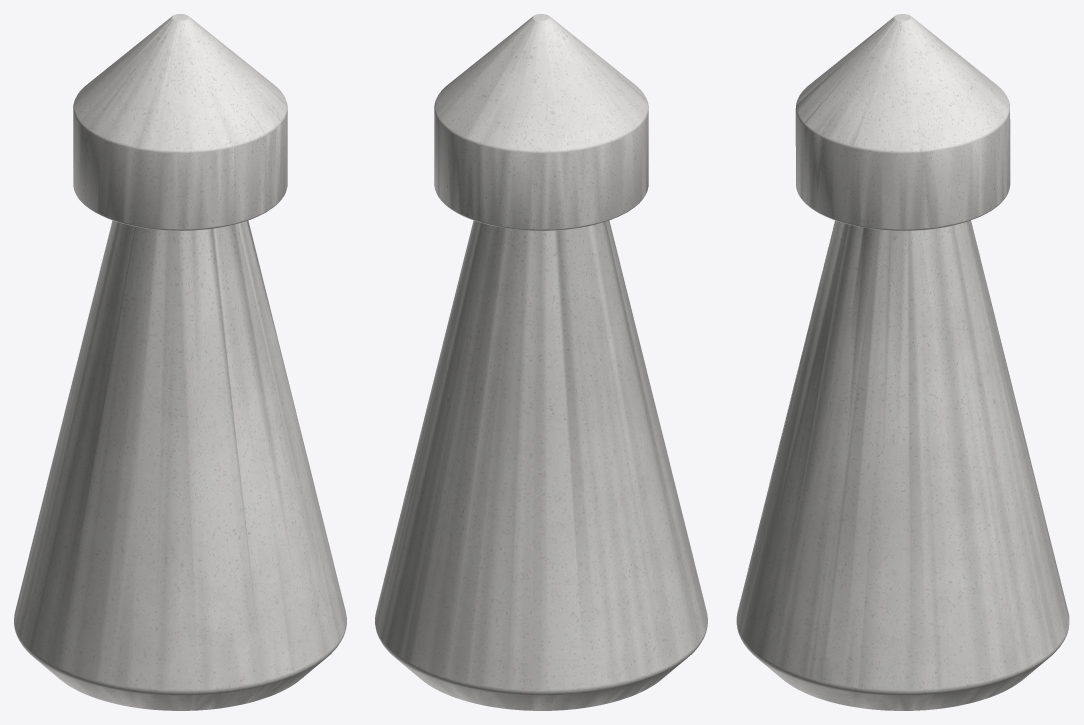
Rendered from bishop-white.glb.
3 renders of one model, left to right at view 1: azimuth 30°, elevation 25°; view 2: azimuth 150°, elevation 25°; view 3: azimuth 270°, elevation 25°, orthographic.
Parts seen in each view (by area): view 1: 06_strelec_bila; view 2: 06_strelec_bila; view 3: 06_strelec_bila.
Part boxes in pixels (<box>): 06_strelec_bila: <box>14,14,346,710</box>; 06_strelec_bila: <box>375,14,707,710</box>; 06_strelec_bila: <box>736,14,1069,710</box>.
Bounding box in the file's own units: 0.7147 × 1.51 × 0.7151.
1 material, 1 textured.
